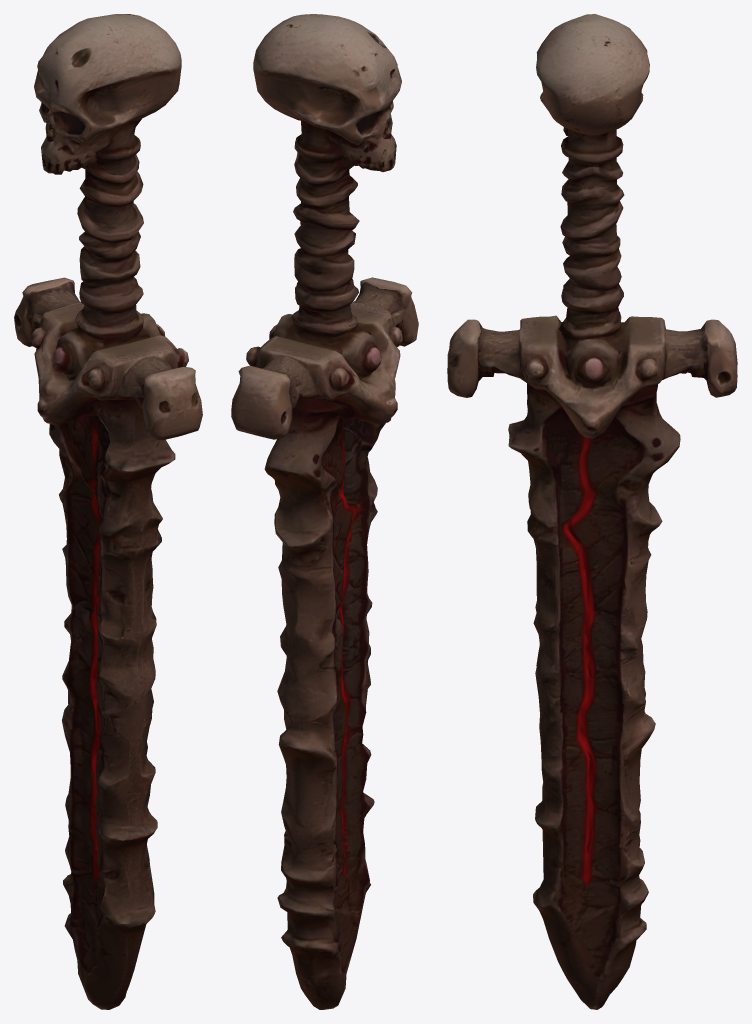
Rendered from sword-bone.glb.
3 renders of one model, left to right at view 1: azimuth 30°, elevation 25°; view 2: azimuth 150°, elevation 25°; view 3: azimuth 270°, elevation 25°, orthographic.
Visible parts, largest first — view 1: tripo_node_2bb098df-c3bb-4643-826d-6bdda0bd2028; view 2: tripo_node_2bb098df-c3bb-4643-826d-6bdda0bd2028; view 3: tripo_node_2bb098df-c3bb-4643-826d-6bdda0bd2028.
Boxes of the visible parts, bbox=[...] form: tripo_node_2bb098df-c3bb-4643-826d-6bdda0bd2028: bbox=[14, 14, 202, 1009]; tripo_node_2bb098df-c3bb-4643-826d-6bdda0bd2028: bbox=[231, 14, 418, 1009]; tripo_node_2bb098df-c3bb-4643-826d-6bdda0bd2028: bbox=[447, 14, 737, 1009].
Bounding box in the file's own units: 0.1521 × 0.9999 × 0.2672.
Materials: 1 (1 with a texture image).
